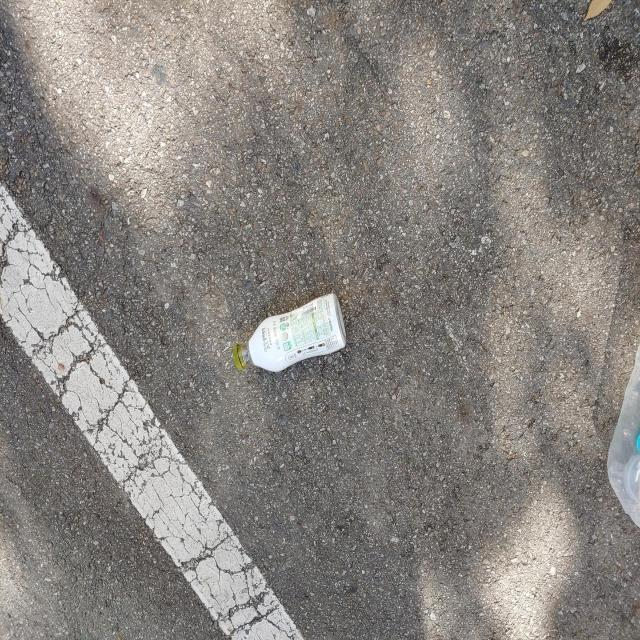plastic: (232, 293, 346, 371)
